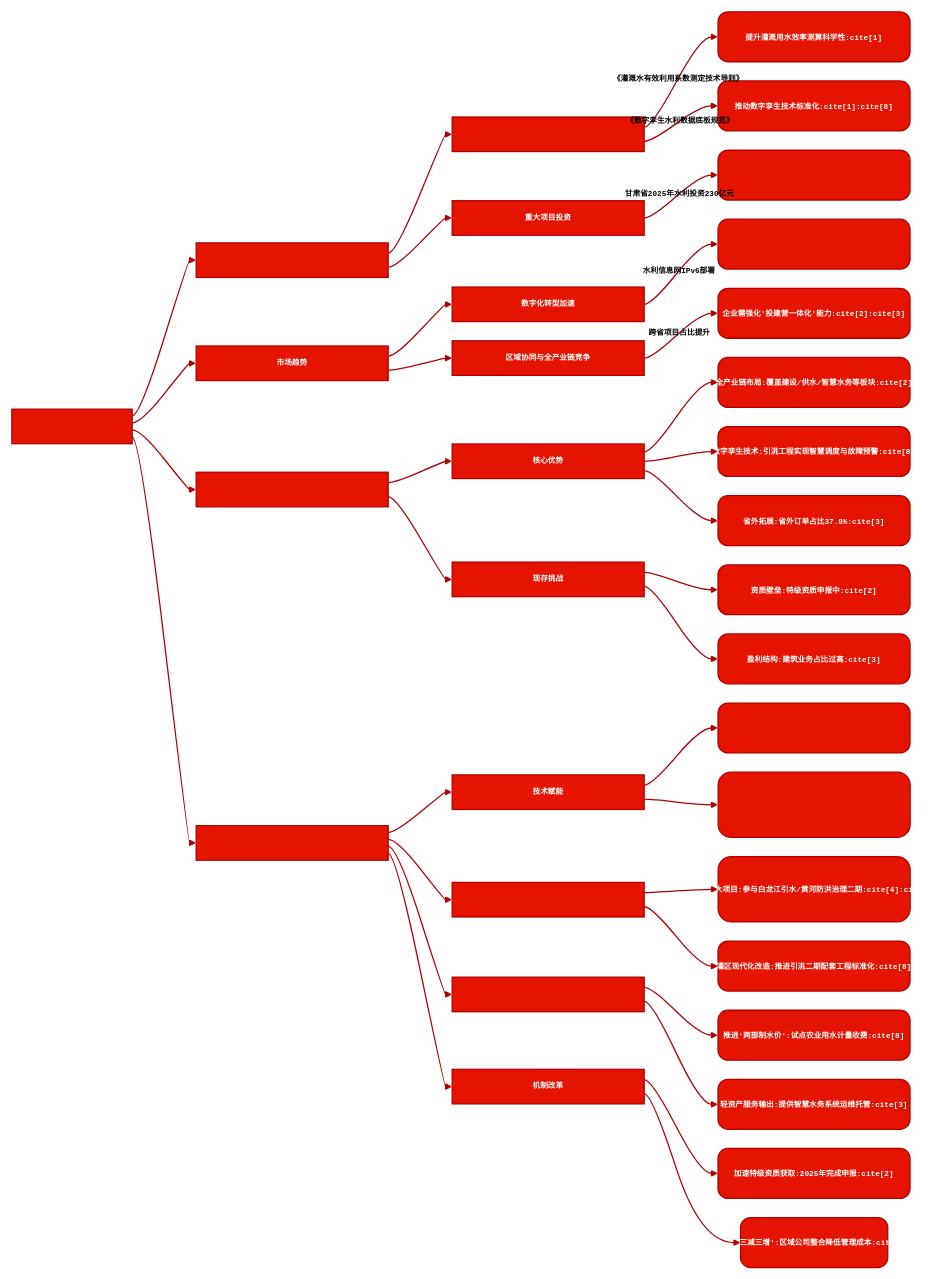
This 947x1279 diagram has some shape labels left out. The shapes that lost their labels are listed below. From the top down, each one's centre as x and y in pixels, then its label:
At point 547,134: "节水增效与标准化".
At point 813,174: "重点布局灌区改造/防洪治理/调蓄设施:cite[4]:cite[6]".
At point 291,260: "政策重点方向".
At point 813,243: "智慧水务与数据底板建设成刚需:cite[1]".
At point 71,426: "水利行业政策分析".
At point 291,489: "甘肃水投业务特点".
At point 813,727: "深化数字孪生应用:扩展至榆安灌区等新项目:cite[8]".
At point 813,804: "构建水利信息网:应用SL/T 307-2025标准优化IP管理:cite[1]".
At point 291,843: "应对策略".
At point 547,899: "项目拓展".
At point 547,994: "经营优化".
